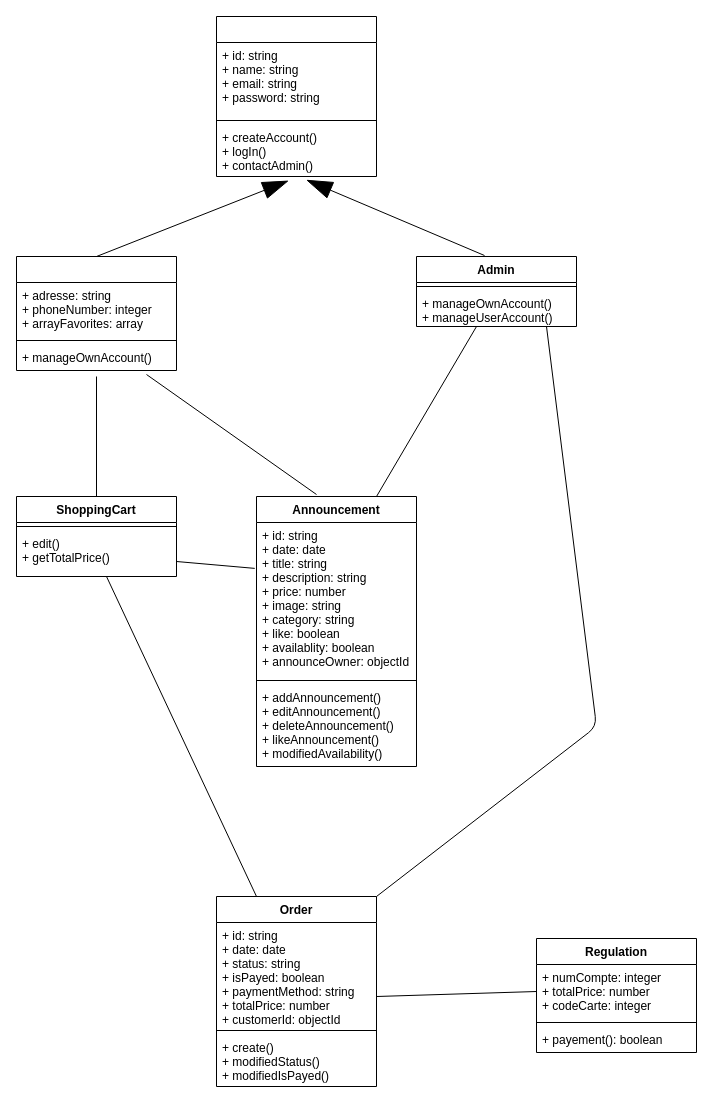
This 713x1103 diagram has some shape labels left out. The box of each missing label's shape, as (x1, y1, x2, y2) in pixels:
Customer: (16, 256, 176, 370)
Person: (216, 16, 376, 176)
